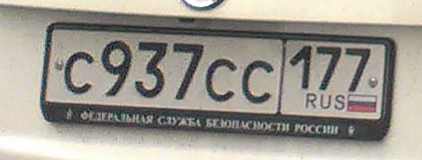character: (169, 41, 206, 105), (96, 36, 133, 98), (133, 40, 169, 101), (239, 56, 276, 106), (204, 57, 239, 108), (62, 48, 97, 98), (342, 45, 372, 95), (314, 44, 343, 94), (288, 44, 312, 93)
